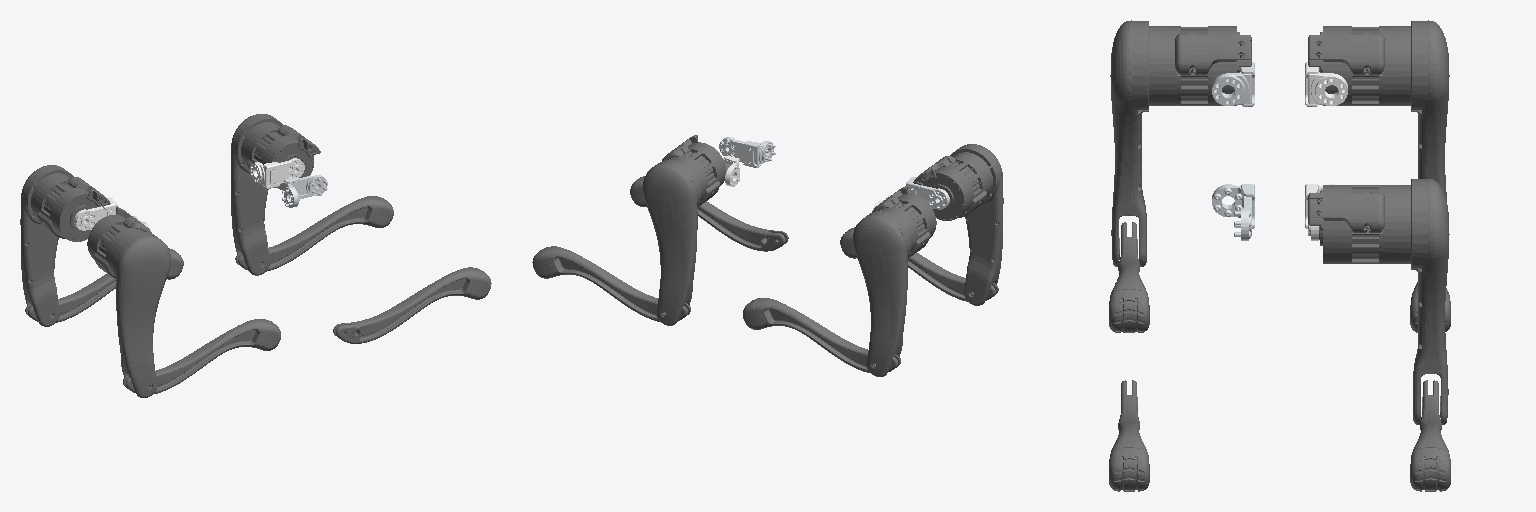
robot.urdf — legbot_description:
<?xml version='1.0' encoding='utf-8'?>
<robot name="legbot_description">
  <link name="base">
    <inertial>
      <origin xyz="-0.012 0.002 0.001" rpy="0 0 0" />
      <mass value="7.09" />
      <inertia ixx="0.044277" ixy="-0.000146" ixz="-0.024292" iyy="0.105409" iyz="-0.000032" izz="0.091875" />
    </inertial>
    <visual>
      <origin xyz="0 0 0" rpy="0 0 0" />
      <geometry><mesh filename="package://legbot/meshes/base_link.STL" /></geometry>
      <material name="grey"><color rgba="0.752941 0.752941 0.752941 1" /></material>
    </visual>
    <collision>
      <origin xyz="0.18389 0 0.16552" rpy="0 0 0" />
      <geometry><box size="0.169204 0.157994 0.083746" /></geometry>
    </collision>
    <collision>
      <origin xyz="0 0 0.004583" rpy="0 0 0" />
      <geometry><box size="0.27 0.21 0.11" /></geometry>
    </collision>
  </link>

  <link name="FR_hip">
    <inertial>
      <origin xyz="-0.027882 0.015355 0" rpy="0 0 0" />
      <mass value="0.079643" />
      <inertia ixx="8.72171e-05" ixy="0" ixz="0" iyy="7.7874e-05" iyz="0" izz="2.29089e-05" />
    </inertial>
    <visual>
      <origin xyz="0 0 0" rpy="0 0 0" />
      <geometry><mesh filename="package://legbot/meshes/FR_hip.STL" /></geometry>
      <material name="light_grey"><color rgba="0.898039 0.917647 0.929412 1" /></material>
    </visual>
    <collision>
      <origin xyz="0 -0.04875 0" rpy="1.5707963 0 0" />
      <geometry><cylinder length="0.04" radius="0.046" /></geometry>
    </collision>
  </link>
  <joint name="FR_hip_joint" type="revolute">
    <origin xyz="0.18453 -0.051 0" rpy="0 0 0" />
    <parent link="base" /><child link="FR_hip" />
    <axis xyz="1 0 0" />
    <limit lower="-0.73304" upper="0.73304" effort="16" velocity="30" />
  </joint>

  <link name="FR_thigh">
    <inertial>
      <origin xyz="-0.000498 0.038065 -0.024467" rpy="0 0 0" />
      <mass value="1.456" />
      <inertia ixx="0.00679074" ixy="0" ixz="0" iyy="0.00586921" iyz="0" izz="0.00204705" />
    </inertial>
    <visual>
      <origin xyz="0 0 0" rpy="0 0 0" />
      <geometry><mesh filename="package://legbot/meshes/FR_thigh.STL" /></geometry>
      <material name="dark_grey"><color rgba="0.498039 0.498039 0.498039 1" /></material>
    </visual>
    <collision>
      <origin rpy="0 1.5707963 0" xyz="0 0 -0.1" />
      <geometry><box size="0.2 0.026 0.034" /></geometry>
    </collision>
  </link>
  <joint name="FR_thigh_joint" type="revolute">
    <origin xyz="0 -0.0975 0" rpy="0 0 0" />
    <parent link="FR_hip" /><child link="FR_thigh" />
    <axis xyz="0 1 0" />
    <limit lower="-1.559" upper="3.1298" effort="16" velocity="30" />
  </joint>

  <link name="FR_calf">
    <inertial>
      <origin xyz="0.00261631 0 -0.125302" rpy="0 0 0" />
      <mass value="0.183986" />
      <inertia ixx="0.00125035" ixy="0" ixz="0" iyy="0.0012368" iyz="0" izz="3.55485e-05" />
    </inertial>
    <visual>
      <origin xyz="0 0 0" rpy="0 0 0" />
      <geometry><mesh filename="package://legbot/meshes/FR_calf.STL" /></geometry>
      <material name="dark_grey"><color rgba="0.498039 0.498039 0.498039 1" /></material>
    </visual>
    <collision>
      <origin rpy="0 0 0" xyz="0 0 -0.1" />
      <geometry><cylinder length="0.16" radius="0.012" /></geometry>
    </collision>
  </link>
  <joint name="FR_calf_joint" type="revolute">
    <origin xyz="0 0 -0.1985" rpy="0 0 0" />
    <parent link="FR_thigh" /><child link="FR_calf" />
    <axis xyz="0 1 0" />
    <limit lower="-2.6387" upper="-0.7854" effort="32" velocity="15.7" />
  </joint>

  <link name="FR_foot">
    <inertial><origin xyz="0 0 0" rpy="0 0 0" /><mass value="0.025" /><inertia ixx="9.6e-06" ixy="0" ixz="0" iyy="9.6e-06" iyz="0" izz="9.6e-06" /></inertial>
    <visual>
      <origin xyz="0 0 0" rpy="0 0 0" />
      <geometry><mesh filename="package://legbot/meshes/FR_foot.STL" /></geometry>
      <material name="dark_grey"><color rgba="0.498039 0.498039 0.498039 1" /></material>
    </visual>
    <collision>
      <origin rpy="0 0 0" xyz="0 0 0" />
      <geometry><sphere radius="0.021" /></geometry>
    </collision>
  </link>
  <joint name="FR_foot_joint" type="fixed" dont_collapse="true">
    <origin xyz="0 0 -0.214" rpy="0 0 0" />
    <parent link="FR_calf" /><child link="FR_foot" />
  </joint>

  <link name="FL_hip">
    <inertial>
      <origin xyz="-0.027882 -0.015355 0" rpy="0 0 0" />
      <mass value="0.079643" />
      <inertia ixx="8.72171e-05" ixy="0" ixz="0" iyy="7.7874e-05" iyz="0" izz="2.29089e-05" />
    </inertial>
    <visual>
      <origin xyz="0 0 0" rpy="0 0 0" />
      <geometry><mesh filename="package://legbot/meshes/FL_hip.STL" /></geometry>
      <material name="white"><color rgba="1 1 1 1" /></material>
    </visual>
    <collision>
      <origin xyz="0 0.04875 0" rpy="1.5707963 0 0" />
      <geometry><cylinder length="0.04" radius="0.046" /></geometry>
    </collision>
  </link>
  <joint name="FL_hip_joint" type="revolute">
    <origin xyz="0.18453 0.051 0" rpy="0 0 0" />
    <parent link="base" /><child link="FL_hip" />
    <axis xyz="1 0 0" />
    <limit lower="-0.73304" upper="0.73304" effort="16" velocity="30" />
  </joint>

  <link name="FL_thigh">
    <inertial>
      <origin xyz="-0.000498 -0.038065 -0.024467" rpy="0 0 0" />
      <mass value="1.456" />
      <inertia ixx="0.00679074" ixy="0" ixz="0" iyy="0.00586921" iyz="0" izz="0.00204705" />
    </inertial>
    <visual>
      <origin xyz="0 0 0" rpy="0 0 0" />
      <geometry><mesh filename="package://legbot/meshes/FL_thigh.STL" /></geometry>
      <material name="dark_grey"><color rgba="0.498039 0.498039 0.498039 1" /></material>
    </visual>
    <collision>
      <origin rpy="0 1.5707963 0" xyz="0 0 -0.1" />
      <geometry><box size="0.2 0.026 0.034" /></geometry>
    </collision>
  </link>
  <joint name="FL_thigh_joint" type="revolute">
    <origin xyz="0 0.0975 0" rpy="0 0 0" />
    <parent link="FL_hip" /><child link="FL_thigh" />
    <axis xyz="0 1 0" />
    <limit lower="-1.559" upper="3.1298" effort="16" velocity="30" />
  </joint>

  <link name="FL_calf">
    <inertial>
      <origin xyz="0.00261631 0 -0.125302" rpy="0 0 0" />
      <mass value="0.183986" />
      <inertia ixx="0.00125035" ixy="0" ixz="0" iyy="0.0012368" iyz="0" izz="3.55485e-05" />
    </inertial>
    <visual>
      <origin xyz="0 0 0" rpy="0 0 0" />
      <geometry><mesh filename="package://legbot/meshes/FL_calf.STL" /></geometry>
      <material name="dark_grey"><color rgba="0.498039 0.498039 0.498039 1" /></material>
    </visual>
    <collision>
      <origin rpy="0 0 0" xyz="0 0 -0.1" />
      <geometry><cylinder length="0.16" radius="0.012" /></geometry>
    </collision>
  </link>
  <joint name="FL_calf_joint" type="revolute">
    <origin xyz="0 0 -0.1985" rpy="0 0 0" />
    <parent link="FL_thigh" /><child link="FL_calf" />
    <axis xyz="0 1 0" />
    <limit lower="-2.6387" upper="-0.7854" effort="32" velocity="15.7" />
  </joint>

  <link name="FL_foot">
    <inertial><origin xyz="0 0 0" rpy="0 0 0" /><mass value="0.025" /><inertia ixx="9.6e-06" ixy="0" ixz="0" iyy="9.6e-06" iyz="0" izz="9.6e-06" /></inertial>
    <visual>
      <origin xyz="0 0 0" rpy="0 0 0" />
      <geometry><mesh filename="package://legbot/meshes/FL_foot.STL" /></geometry>
      <material name="dark_grey"><color rgba="0.498039 0.498039 0.498039 1" /></material>
    </visual>
    <collision>
      <origin rpy="0 0 0" xyz="0 0 0" />
      <geometry><sphere radius="0.021" /></geometry>
    </collision>
  </link>
  <joint name="FL_foot_joint" type="fixed" dont_collapse="true">
    <origin xyz="0 0 -0.214" rpy="0 0 0" />
    <parent link="FL_calf" /><child link="FL_foot" />
  </joint>

  <link name="RR_hip">
    <inertial>
      <origin xyz="0.027882 0.015355 0" rpy="0 0 0" />
      <mass value="0.079643" />
      <inertia ixx="8.72171e-05" ixy="0" ixz="0" iyy="7.7874e-05" iyz="0" izz="2.29089e-05" />
    </inertial>
    <visual>
      <origin xyz="0 0 0" rpy="0 0 0" />
      <geometry><mesh filename="package://legbot/meshes/RR_hip.STL" /></geometry>
      <material name="light_grey"><color rgba="0.898039 0.917647 0.929412 1" /></material>
    </visual>
    <collision>
      <origin xyz="0 -0.04875 0" rpy="1.5707963 0 0" />
      <geometry><cylinder length="0.04" radius="0.046" /></geometry>
    </collision>
  </link>
  <joint name="RR_hip_joint" type="revolute">
    <origin xyz="-0.18453 -0.051 0" rpy="0 0 0" />
    <parent link="base" /><child link="RR_hip" />
    <axis xyz="1 0 0" />
    <limit lower="-0.73304" upper="0.73304" effort="16" velocity="30" />
  </joint>

  <link name="RR_thigh">
    <inertial>
      <origin xyz="-0.000498 0.038065 -0.024467" rpy="0 0 0" />
      <mass value="1.456" />
      <inertia ixx="0.00679074" ixy="0" ixz="0" iyy="0.00586921" iyz="0" izz="0.00204705" />
    </inertial>
    <visual>
      <origin xyz="0 0 0" rpy="0 0 0" />
      <geometry><mesh filename="package://legbot/meshes/RR_thigh.STL" /></geometry>
      <material name="dark_grey"><color rgba="0.498039 0.498039 0.498039 1" /></material>
    </visual>
    <collision>
      <origin rpy="0 1.5707963 0" xyz="0 0 -0.1" />
      <geometry><box size="0.2 0.026 0.034" /></geometry>
    </collision>
  </link>
  <joint name="RR_thigh_joint" type="revolute">
    <origin xyz="0 -0.0975 0" rpy="0 0 0" />
    <parent link="RR_hip" /><child link="RR_thigh" />
    <axis xyz="0 1 0" />
    <limit lower="-0.51181" upper="4.177" effort="16" velocity="30" />
  </joint>

  <link name="RR_calf">
    <inertial>
      <origin xyz="0.00261631 0 -0.125302" rpy="0 0 0" />
      <mass value="0.183986" />
      <inertia ixx="0.00125035" ixy="0" ixz="0" iyy="0.0012368" iyz="0" izz="3.55485e-05" />
    </inertial>
    <visual>
      <origin xyz="0 0 0" rpy="0 0 0" />
      <geometry><mesh filename="package://legbot/meshes/RR_calf.STL" /></geometry>
      <material name="dark_grey"><color rgba="0.498039 0.498039 0.498039 1" /></material>
    </visual>
    <collision>
      <origin rpy="0 0 0" xyz="0 0 -0.1" />
      <geometry><cylinder length="0.16" radius="0.012" /></geometry>
    </collision>
  </link>
  <joint name="RR_calf_joint" type="revolute">
    <origin xyz="0 0 -0.1985" rpy="0 0 0" />
    <parent link="RR_thigh" /><child link="RR_calf" />
    <axis xyz="0 1 0" />
    <limit lower="-2.6387" upper="-0.7854" effort="32" velocity="15.7" />
  </joint>

  <link name="RR_foot">
    <inertial><origin xyz="0 0 0" rpy="0 0 0" /><mass value="0.025" /><inertia ixx="9.6e-06" ixy="0" ixz="0" iyy="9.6e-06" iyz="0" izz="9.6e-06" /></inertial>
    <visual>
      <origin xyz="0 0 0" rpy="0 0 0" />
      <geometry><mesh filename="package://legbot/meshes/RR_foot.STL" /></geometry>
      <material name="dark_grey"><color rgba="0.498039 0.498039 0.498039 1" /></material>
    </visual>
    <collision>
      <origin rpy="0 0 0" xyz="0 0 0" />
      <geometry><sphere radius="0.021" /></geometry>
    </collision>
  </link>
  <joint name="RR_foot_joint" type="fixed" dont_collapse="true">
    <origin xyz="0 0 -0.214" rpy="0 0 0" />
    <parent link="RR_calf" /><child link="RR_foot" />
  </joint>

  <link name="RL_hip">
    <inertial>
      <origin xyz="0.027882 -0.015355 0" rpy="0 0 0" />
      <mass value="0.079643" />
      <inertia ixx="8.72171e-05" ixy="0" ixz="0" iyy="7.7874e-05" iyz="0" izz="2.29089e-05" />
    </inertial>
    <visual>
      <origin xyz="0 0 0" rpy="0 0 0" />
      <geometry><mesh filename="package://legbot/meshes/RL_hip.STL" /></geometry>
      <material name="white"><color rgba="1 1 1 1" /></material>
    </visual>
    <collision>
      <origin xyz="0 0.04875 0" rpy="1.5707963 0 0" />
      <geometry><cylinder length="0.04" radius="0.046" /></geometry>
    </collision>
  </link>
  <joint name="RL_hip_joint" type="revolute">
    <origin xyz="-0.18453 0.051 0" rpy="0 0 0" />
    <parent link="base" /><child link="RL_hip" />
    <axis xyz="1 0 0" />
    <limit lower="-0.73304" upper="0.73304" effort="16" velocity="30" />
  </joint>

  <link name="RL_thigh">
    <inertial>
      <origin xyz="-0.000498 -0.038065 -0.024467" rpy="0 0 0" />
      <mass value="1.456" />
      <inertia ixx="0.00679074" ixy="0" ixz="0" iyy="0.00586921" iyz="0" izz="0.00204705" />
    </inertial>
    <visual>
      <origin xyz="0 0 0" rpy="0 0 0" />
      <geometry><mesh filename="package://legbot/meshes/RL_thigh.STL" /></geometry>
      <material name="dark_grey"><color rgba="0.498039 0.498039 0.498039 1" /></material>
    </visual>
    <collision>
      <origin rpy="0 1.5707963 0" xyz="0 0 -0.1" />
      <geometry><box size="0.2 0.026 0.034" /></geometry>
    </collision>
  </link>
  <joint name="RL_thigh_joint" type="revolute">
    <origin xyz="0 0.0975 0" rpy="0 0 0" />
    <parent link="RL_hip" /><child link="RL_thigh" />
    <axis xyz="0 1 0" />
    <limit lower="-0.51181" upper="4.177" effort="16" velocity="30" />
  </joint>

  <link name="RL_calf">
    <inertial>
      <origin xyz="0.00261631 0 -0.125302" rpy="0 0 0" />
      <mass value="0.183986" />
      <inertia ixx="0.00125035" ixy="0" ixz="0" iyy="0.0012368" iyz="0" izz="3.55485e-05" />
    </inertial>
    <visual>
      <origin xyz="0 0 0" rpy="0 0 0" />
      <geometry><mesh filename="package://legbot/meshes/RL_calf.STL" /></geometry>
      <material name="dark_grey"><color rgba="0.498039 0.498039 0.498039 1" /></material>
    </visual>
    <collision>
      <origin rpy="0 0 0" xyz="0 0 -0.1" />
      <geometry><cylinder length="0.16" radius="0.012" /></geometry>
    </collision>
  </link>
  <joint name="RL_calf_joint" type="revolute">
    <origin xyz="0 0 -0.1985" rpy="0 0 0" />
    <parent link="RL_thigh" /><child link="RL_calf" />
    <axis xyz="0 1 0" />
    <limit lower="-2.6387" upper="-0.7854" effort="32" velocity="15.7" />
  </joint>

  <link name="RL_foot">
    <inertial><origin xyz="0 0 0" rpy="0 0 0" /><mass value="0.025" /><inertia ixx="9.6e-06" ixy="0" ixz="0" iyy="9.6e-06" iyz="0" izz="9.6e-06" /></inertial>
    <visual>
      <origin xyz="0 0 0" rpy="0 0 0" />
      <geometry><mesh filename="package://legbot/meshes/RL_foot.STL" /></geometry>
      <material name="dark_grey"><color rgba="0.498039 0.498039 0.498039 1" /></material>
    </visual>
    <collision>
      <origin rpy="0 0 0" xyz="0 0 0" />
      <geometry><sphere radius="0.021" /></geometry>
    </collision>
  </link>
  <joint name="RL_foot_joint" type="fixed" dont_collapse="true">
    <origin xyz="0 0 -0.214" rpy="0 0 0" />
    <parent link="RL_calf" /><child link="RL_foot" />
  </joint>
</robot>

--- What the picture shows (computed from the rendered views, not written in the file) ---
3 views of the same robot in one strip: view 1: azimuth 30°, elevation 25°; view 2: azimuth 150°, elevation 25°; view 3: azimuth 270°, elevation 25° (orthographic).
Model legbot_description with 17 links and 16 joints (12 revolute, 4 fixed), rooted at base, posed all joints at 0 but 4 set to mid-range because 0 is outside their limits (FR_calf_joint = -1.71, FL_calf_joint = -1.71, RR_calf_joint = -1.71, RL_calf_joint = -1.71).
Links seen in each view (by area): view 1: RR_thigh, RL_thigh, FL_thigh, FR_calf, RR_calf, FL_calf, RL_calf, FL_hip, FR_hip, RL_hip; view 2: RL_thigh, FL_thigh, RR_thigh, FL_calf, RL_calf, FR_calf, RR_calf, FR_hip, RR_hip; view 3: FL_thigh, RR_thigh, RL_thigh, FR_foot, FL_foot, RR_foot, FR_hip, RR_hip, RL_hip, FR_calf, FL_calf, RR_calf.
Link boxes in pixels (left/top/right/bottom): RR_thigh: left=87, top=207, right=170, bottom=397; RL_thigh: left=20, top=165, right=110, bottom=326; FL_thigh: left=231, top=114, right=320, bottom=275; FR_calf: left=333, top=267, right=480, bottom=343; RR_calf: left=123, top=319, right=269, bottom=393; FL_calf: left=235, top=196, right=382, bottom=271; RL_calf: left=25, top=252, right=172, bottom=322; FL_hip: left=250, top=158, right=304, bottom=188; FR_hip: left=282, top=175, right=327, bottom=207; RL_hip: left=74, top=198, right=117, bottom=230; RL_thigh: left=853, top=186, right=936, bottom=376; FL_thigh: left=642, top=135, right=725, bottom=325; RR_thigh: left=913, top=144, right=1003, bottom=305; FL_calf: left=543, top=246, right=690, bottom=321; RL_calf: left=754, top=298, right=900, bottom=372; FR_calf: left=641, top=179, right=788, bottom=251; RR_calf: left=851, top=231, right=998, bottom=301; FR_hip: left=719, top=137, right=775, bottom=167; RR_hip: left=906, top=177, right=949, bottom=209; FL_thigh: left=1308, top=179, right=1449, bottom=424; RR_thigh: left=1110, top=20, right=1251, bottom=266; RL_thigh: left=1308, top=20, right=1449, bottom=199; FR_foot: left=1109, top=448, right=1149, bottom=491; FL_foot: left=1410, top=448, right=1450, bottom=491; RR_foot: left=1109, top=289, right=1149, bottom=332; FR_hip: left=1212, top=184, right=1254, bottom=240; RR_hip: left=1212, top=62, right=1254, bottom=106; RL_hip: left=1305, top=62, right=1347, bottom=106; FR_calf: left=1111, top=380, right=1147, bottom=452; FL_calf: left=1412, top=380, right=1448, bottom=452; RR_calf: left=1110, top=222, right=1147, bottom=295.
Bounding box of the posed robot: 0.6479 × 0.337 × 0.2647 m (x, y, z).
Meshes: 17 distinct files referenced, 15 mesh visuals loaded (15 binary STL); not drawn: 2 (reference not matched to a file when rendering).
